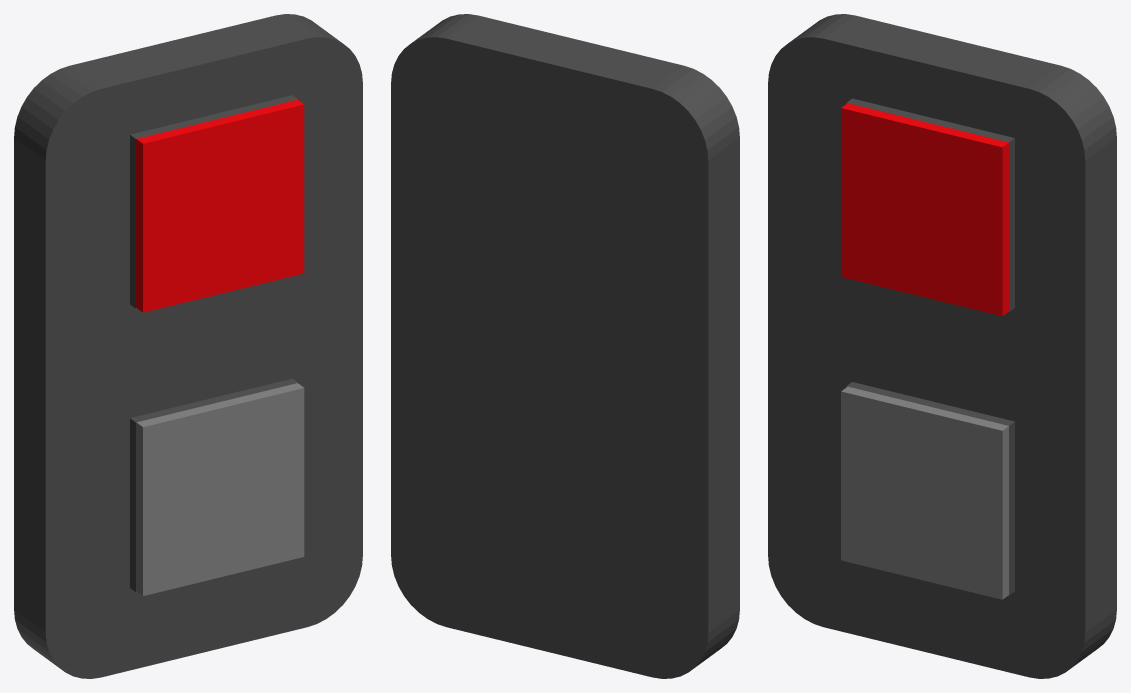
Rendered from Pannel.fbx.
3 renders of one model, left to right at view 1: azimuth 30°, elevation 25°; view 2: azimuth 150°, elevation 25°; view 3: azimuth 330°, elevation 25°, orthographic.
Parts seen in each view (by area): view 1: Cube; view 2: Cube; view 3: Cube.
Part boxes in pixels (x1,y1,x2,y2): Cube: [14, 14, 362, 678]; Cube: [391, 14, 739, 678]; Cube: [768, 14, 1116, 678].
Size of the model in its own units: 27 by 113 by 200.
